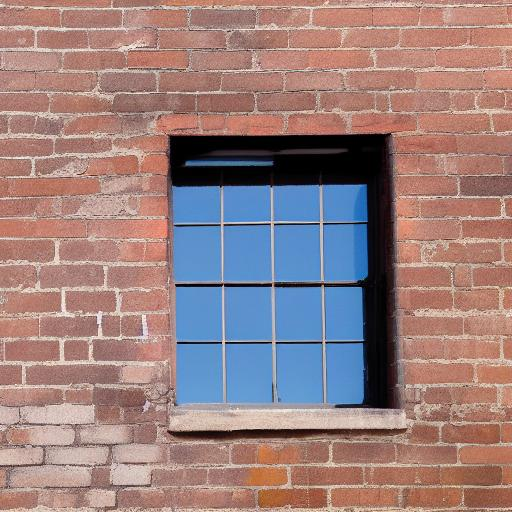Window: (163, 112, 413, 437)
